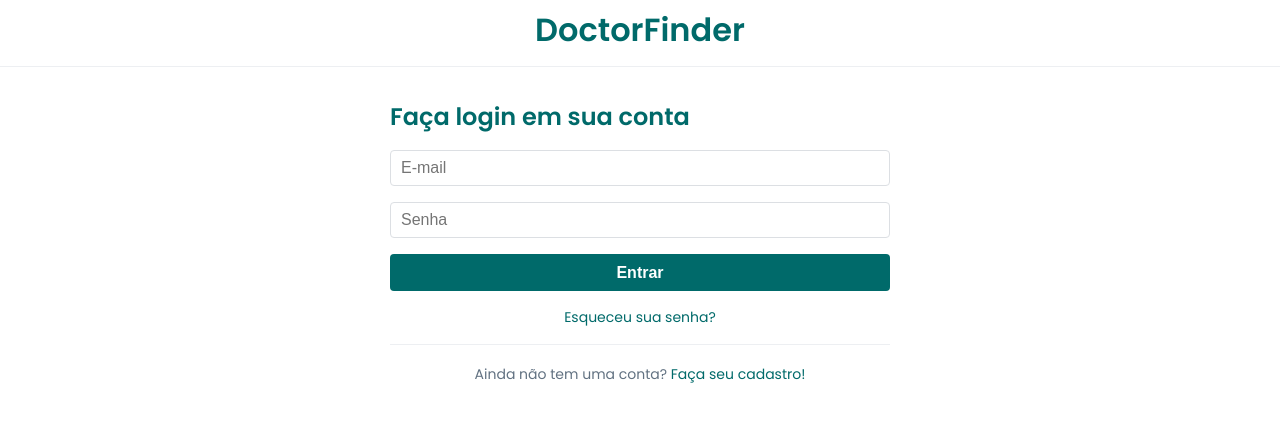
it: Doctor Registration and Login › should show error message with invalid login credentials
# Preencher invalido
Type "invaliduser@example.com" into the field named "email" at (640, 168), box [390,150,890,186]
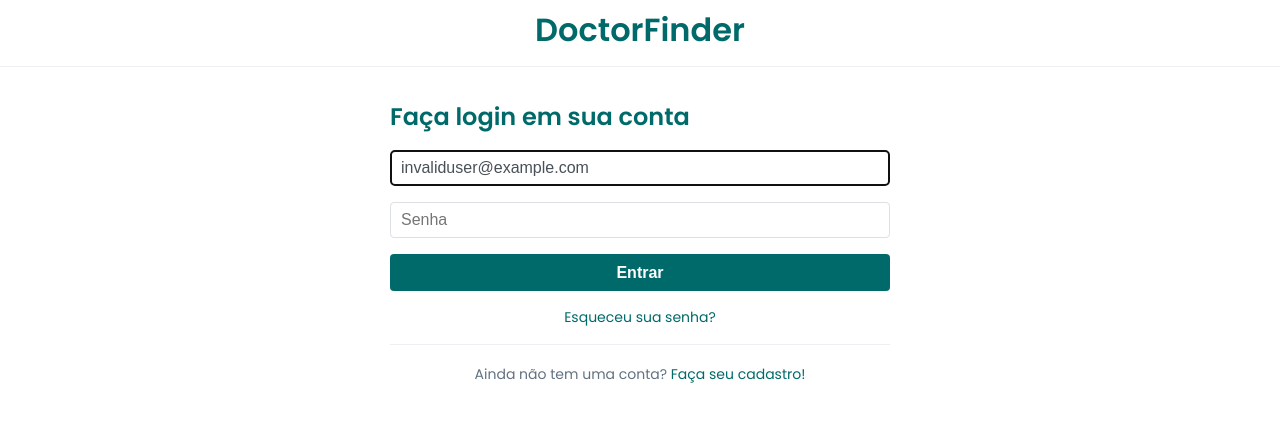
Type "invalidpassword" into the password field named "password" at (640, 220), box [390,202,890,238]
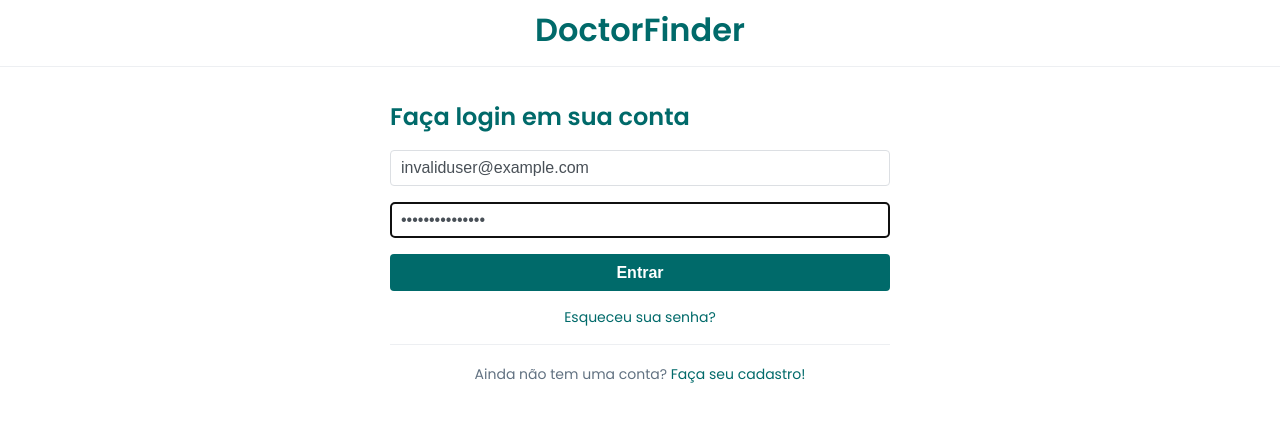
# Submeter o form de login
Click the button "Entrar" at (640, 273), box [390,254,890,291]
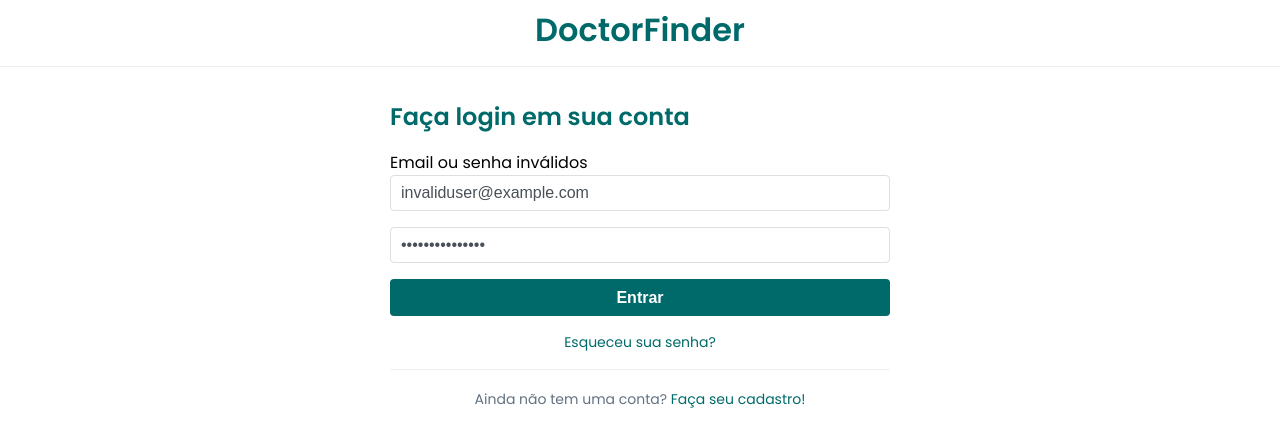
Now the text "Email ou senha inválidos" is shown, box [390,151,588,174]
